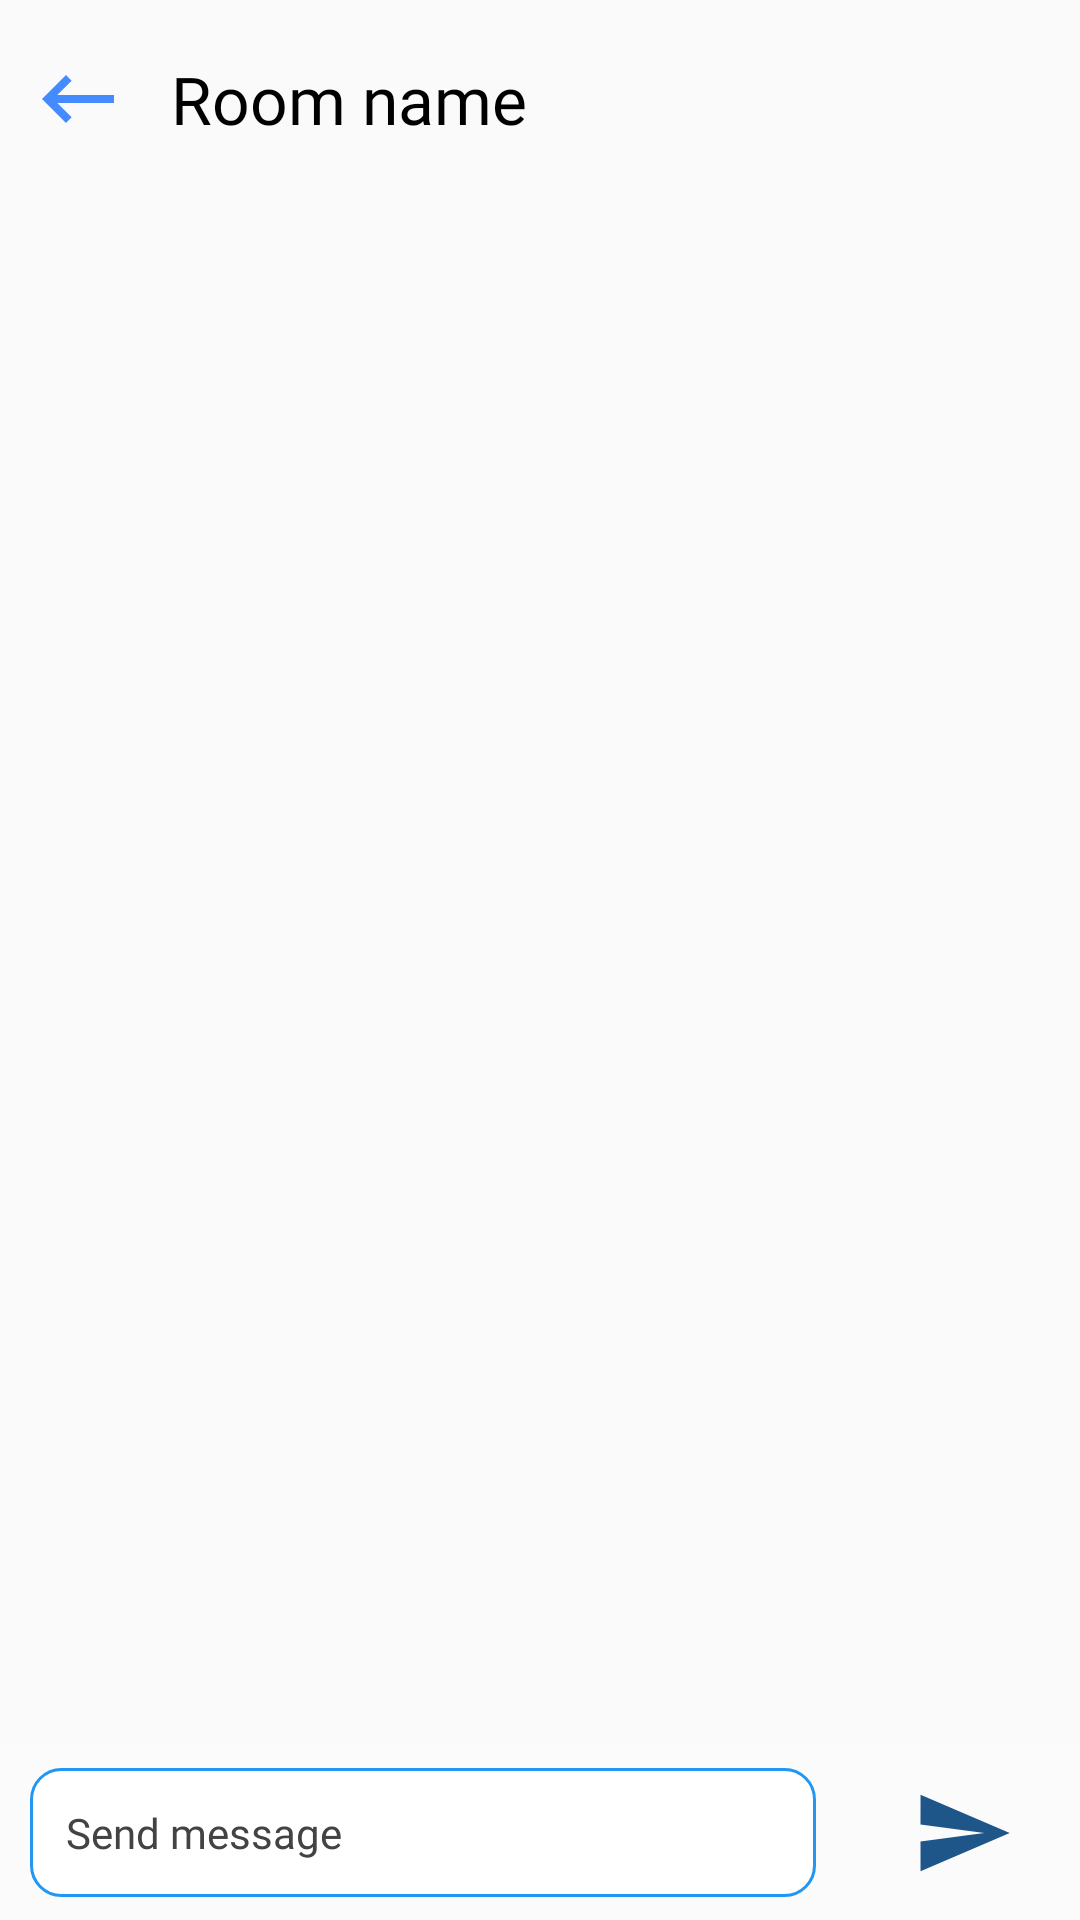

Icon bounding boxes for this 1080 x 1920 phone screenshot, format {"left": x1, "top": y1, "right": x2, "bottom": y2}:
back: {"left": 42, "top": 75, "right": 114, "bottom": 123}
